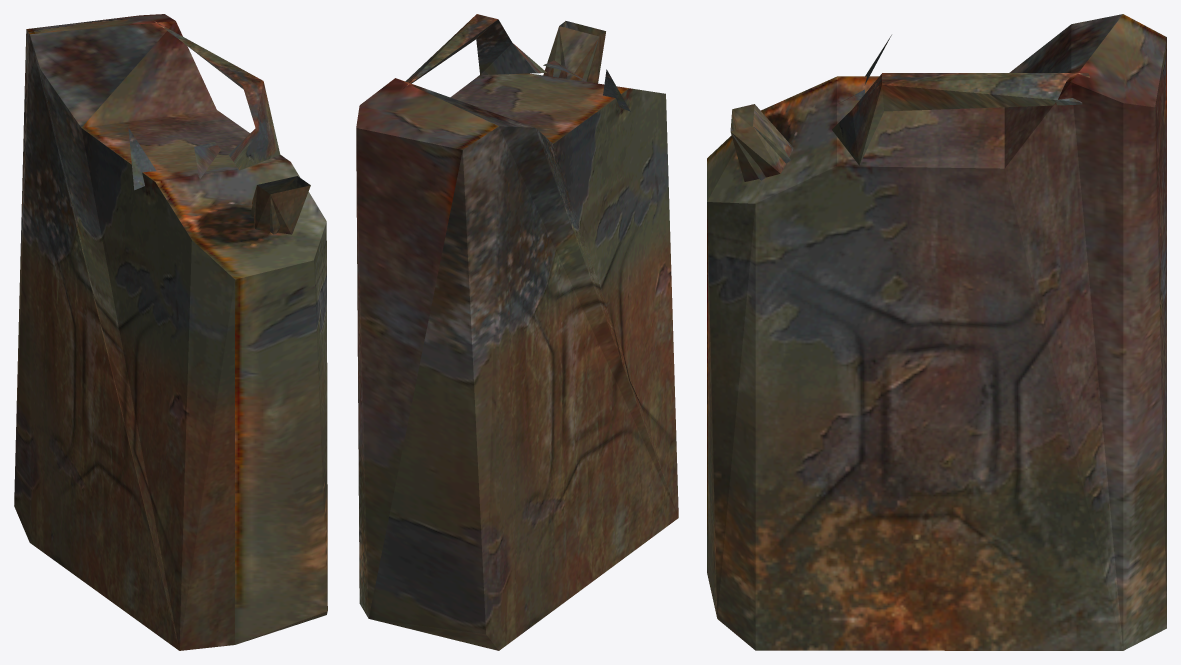
The model's file is kanistra.FBX.
3 renders of one model, left to right at view 1: azimuth 30°, elevation 25°; view 2: azimuth 150°, elevation 25°; view 3: azimuth 270°, elevation 25°, orthographic. The views are drawn at different scales.
Parts seen in each view (by area): view 1: jerrycan; view 2: jerrycan; view 3: jerrycan.
Boxes of the visible parts, x1,y1,x2,y2 form: jerrycan: (14,14,327,650); jerrycan: (356,14,678,650); jerrycan: (707,14,1166,650).
Size of the model in its own units: 7.01 by 23.11 by 16.69.
